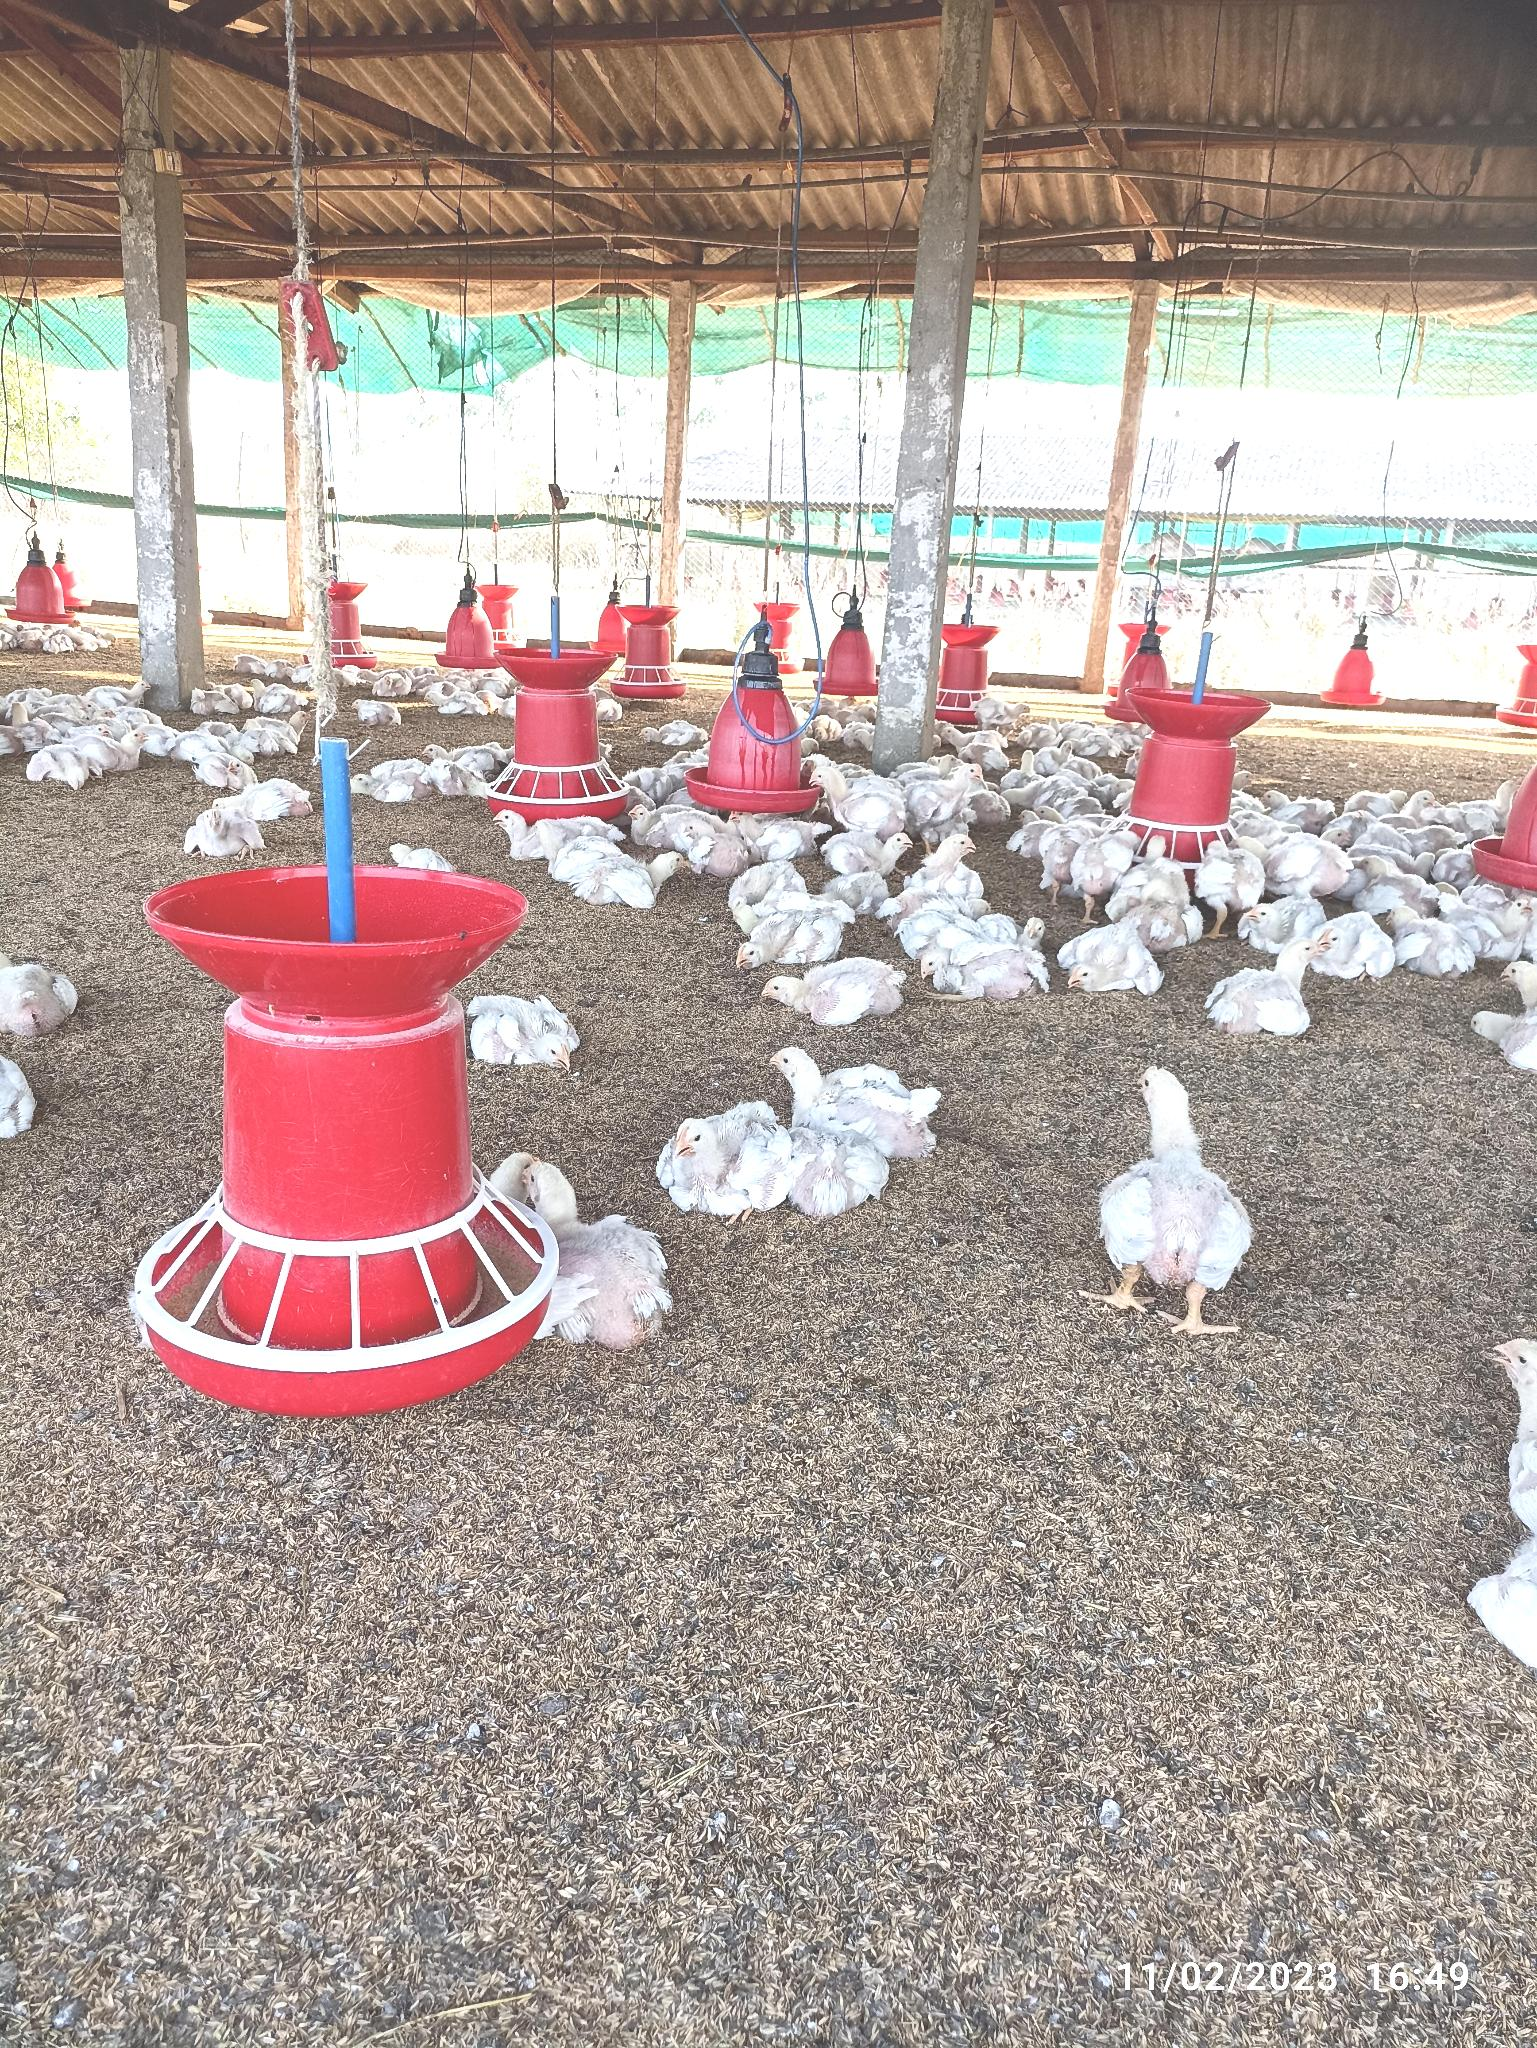Pollos: (1087, 1059, 1271, 1293), (765, 1043, 944, 1168), (652, 1093, 785, 1230), (454, 988, 594, 1073), (1049, 905, 1162, 1009), (768, 955, 919, 1028), (1217, 931, 1317, 1031), (559, 846, 693, 909), (478, 804, 634, 857), (1305, 905, 1411, 981), (914, 825, 986, 904)
